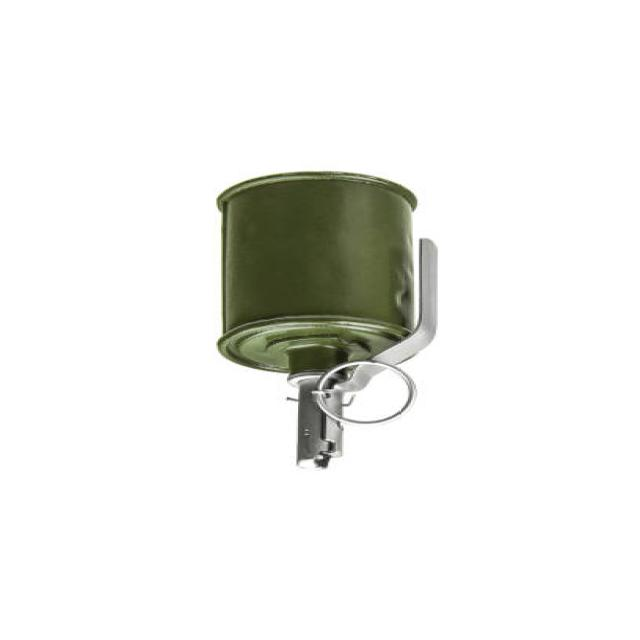grenade: (208, 167, 450, 480)
